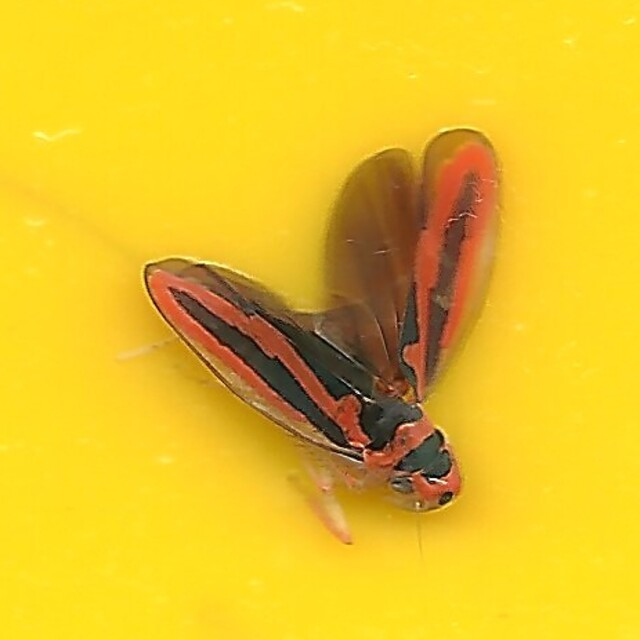Hemiptera: (138, 124, 502, 516)
